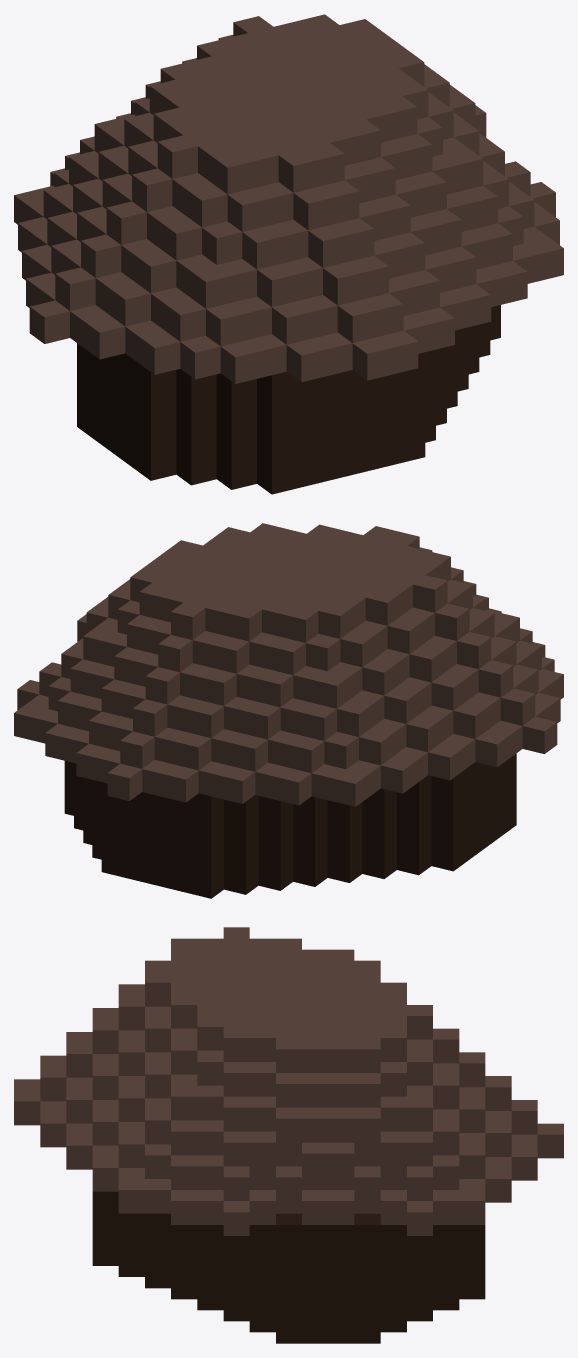
File: two.fbx
3 views of the same model, one above another, from view 1: azimuth 30°, elevation 25°; view 2: azimuth 150°, elevation 25°; view 3: azimuth 270°, elevation 25° (orthographic). The views are drawn at different scales.
Parts seen in each view (by area): view 1: Cell_Clone__Clone__1568, Cell_Clone__Clone__1770, Cell_Clone__Clone__1811, Cell_Clone__Clone__1853, Cell_Clone__Clone__1245, Cell_Clone__Clone__1675, Cell_Clone__Clone__1683, Cell_Clone__Clone__1752, Cell_Clone__Clone__1829, Cell_Clone__Clone__1845, Cell_Clone__Clone__1857, Cell_Clone__Clone__1275 (+140 smaller); view 2: Cell_Clone__Clone__1261, Cell_Clone__Clone__15, Cell_Clone__Clone__20, Cell_Clone__Clone__1245, Cell_Clone__Clone__980, Cell_Clone__Clone__122, Cell_Clone__Clone_, Cell_Clone__Clone__245, Cell_Clone__Clone__250, Cell_Clone__Clone__958, Cell_Clone__Clone__970, Cell_Clone__Clone__134 (+150 smaller); view 3: Cell_Clone__Clone__426, Cell_Clone__Clone__482, Cell_Clone__Clone__1397, Cell_Clone__Clone__1411, Cell_Clone__Clone__1423, Cell_Clone__Clone__1830, Cell_Clone__Clone__1840, Cell_Clone__Clone__1, Cell_Clone__Clone__72, Cell_Clone__Clone__135, Cell_Clone__Clone__350, Cell_Clone__Clone__629 (+134 smaller).
Boxes of the visible parts, bbox=[...] form: Cell_Clone__Clone__1568: bbox=[187, 183, 227, 227]; Cell_Clone__Clone__1770: bbox=[293, 186, 333, 230]; Cell_Clone__Clone__1811: bbox=[180, 335, 220, 379]; Cell_Clone__Clone__1853: bbox=[286, 338, 326, 382]; Cell_Clone__Clone__1245: bbox=[55, 267, 95, 310]; Cell_Clone__Clone__1675: bbox=[202, 221, 242, 264]; Cell_Clone__Clone__1683: bbox=[278, 149, 318, 192]; Cell_Clone__Clone__1752: bbox=[165, 298, 205, 341]; Cell_Clone__Clone__1829: bbox=[308, 224, 348, 267]; Cell_Clone__Clone__1845: bbox=[272, 301, 312, 344]; Cell_Clone__Clone__1857: bbox=[352, 337, 392, 380]; Cell_Clone__Clone__1275: bbox=[106, 201, 146, 244]; Cell_Clone__Clone__1261: bbox=[478, 660, 513, 697]; Cell_Clone__Clone__15: bbox=[220, 766, 255, 803]; Cell_Clone__Clone__20: bbox=[176, 733, 211, 770]; Cell_Clone__Clone__1245: bbox=[500, 688, 535, 725]; Cell_Clone__Clone__980: bbox=[365, 588, 400, 625]; Cell_Clone__Clone__122: bbox=[333, 769, 368, 806]; Cell_Clone__Clone_: bbox=[107, 763, 142, 800]; Cell_Clone__Clone__245: bbox=[258, 670, 293, 707]; Cell_Clone__Clone__250: bbox=[214, 636, 249, 673]; Cell_Clone__Clone__958: bbox=[409, 645, 444, 682]; Cell_Clone__Clone__970: bbox=[387, 616, 422, 653]; Cell_Clone__Clone__134: bbox=[289, 736, 324, 773]; Cell_Clone__Clone__426: bbox=[354, 1213, 380, 1248]; Cell_Clone__Clone__482: bbox=[354, 1107, 380, 1142]; Cell_Clone__Clone__1397: bbox=[197, 1120, 223, 1155]; Cell_Clone__Clone__1411: bbox=[197, 1085, 223, 1120]; Cell_Clone__Clone__1423: bbox=[197, 1050, 223, 1085]; Cell_Clone__Clone__1830: bbox=[66, 1134, 92, 1169]; Cell_Clone__Clone__1840: bbox=[66, 1088, 92, 1123]; Cell_Clone__Clone__1: bbox=[511, 1145, 537, 1180]; Cell_Clone__Clone__72: bbox=[459, 1052, 485, 1087]; Cell_Clone__Clone__135: bbox=[433, 1120, 459, 1155]; Cell_Clone__Clone__350: bbox=[380, 1096, 406, 1131]; Cell_Clone__Clone__629: bbox=[328, 1107, 354, 1142].
Size of the model in its own units: 2000 by 1100 by 2100.
